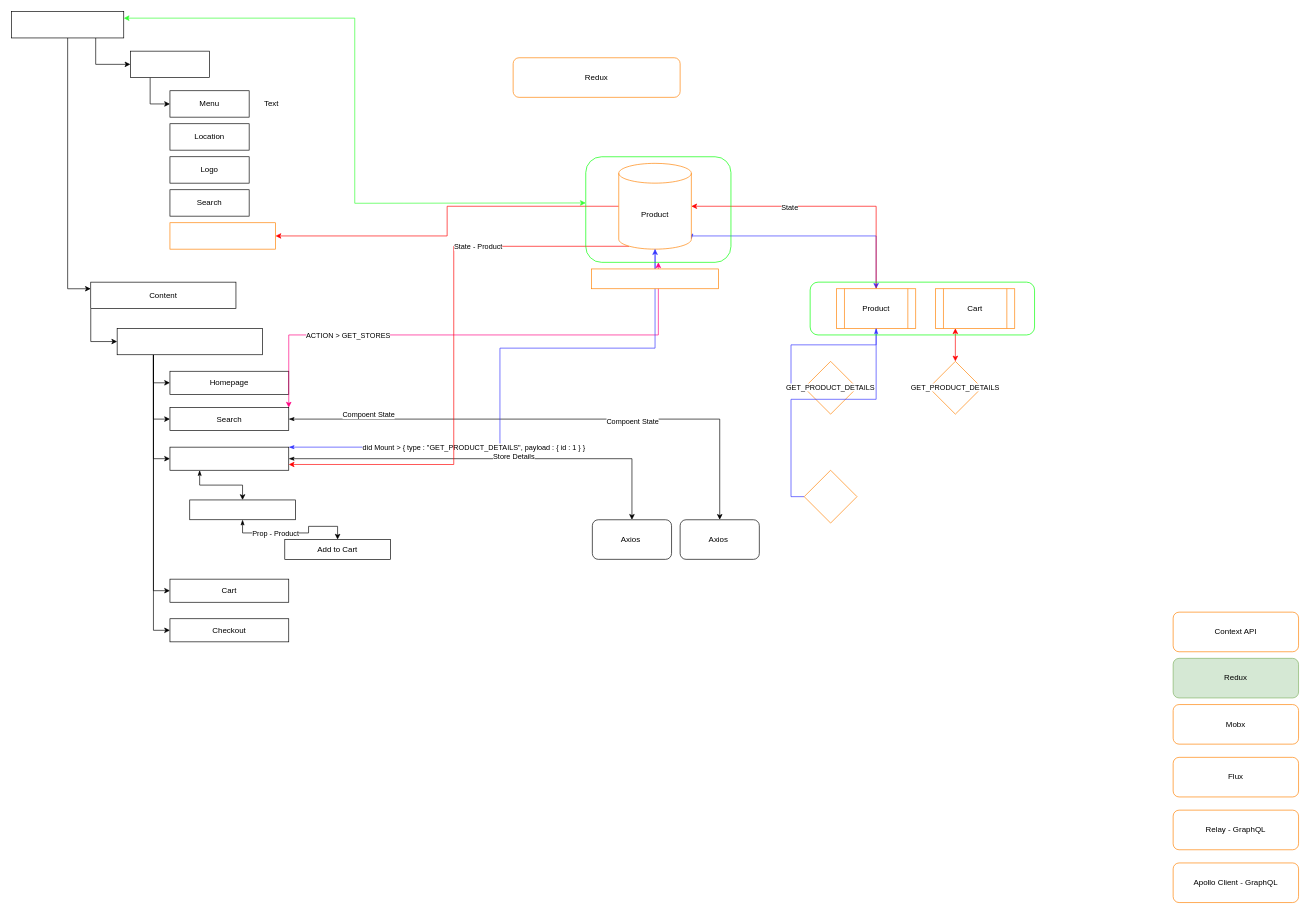
Some shapes in this 1310 by 914 pixel diagram are drawn without their labels. The shapes that lost their labels are listed below. From the top down, each one's box as (x1, y1, x2, y2) in pixels, then its label:
(11, 11, 124, 38): App
(130, 50, 210, 78): Header
(169, 222, 276, 249): Cart (Product Added)
(591, 268, 719, 289): Middleware - Async Operations
(116, 328, 262, 355): React Router
(169, 446, 289, 470): Details (url param id )
(189, 499, 295, 520): Products []
(804, 470, 857, 523): ADD_ITEM_CART
